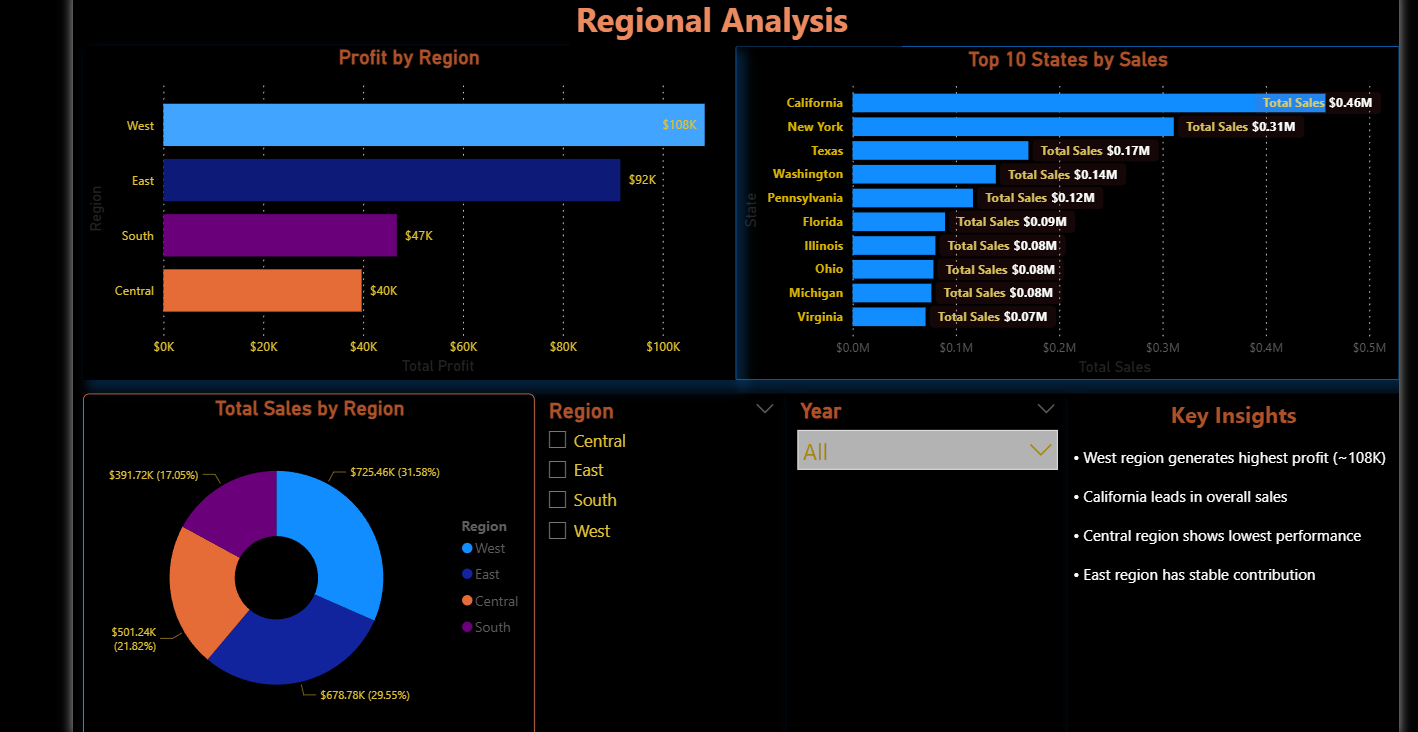

The page's visual inventory and layout, read from the dashboard file:
{"tool":"powerbi","page":{"name":"Regional Analysis","canvas":[1280,720],"ordinal":0},"visuals":[{"type":"clusteredBarChart","title":"Top 10 States by Sales","fields":{"Category":["Sample - Superstore.State"],"Y":["Sample - Superstore.Total Sales"]},"box":[639.5,53.5,640.8,322.5],"z":0},{"type":"donutChart","fields":{"Category":["Sample - Superstore.Region"],"Y":["Sample - Superstore.Total Sales"]},"box":[9.6,388.3,436.4,332.1],"z":1000},{"type":"slicer","fields":{"Values":["Sample - Superstore.Region"]},"box":[446,388.3,242.9,332.1],"z":2000},{"type":"slicer","fields":{"Values":["Sample - Superstore.Order Date.Variation.Date Hierarchy.Year"]},"box":[688.9,388.3,271.7,332.1],"z":3000},{"type":"barChart","title":" Profit by Region","fields":{"Category":["Sample - Superstore.Region"],"Y":["Sample - Superstore.Total Profit"]},"box":[9.6,53.5,629.8,322.5],"z":4000},{"type":"textbox","title":"Regional Analysis","box":[480.3,0,319.7,53.5],"z":5000},{"type":"textbox","box":[960.6,388.3,319.7,332.1],"z":6000}]}

Visuals, with their boxes on the page's 1280x720 design canvas (x1, y1, x2, y2). These are canvas units, not pixel positions in the 1418x732 screenshot, which may show the page scaled, cropped or inside an application window:
"Top 10 States by Sales" clusteredBarChart: box=[640, 54, 1280, 376]
donutChart - Sample - Superstore.Region x Sample - Superstore.Total Sales: box=[10, 388, 446, 720]
slicer - Sample - Superstore.Region: box=[446, 388, 689, 720]
slicer - Sample - Superstore.Order Date.Variation.Date Hierarchy.Year: box=[689, 388, 961, 720]
" Profit by Region" barChart: box=[10, 54, 639, 376]
"Regional Analysis" textbox: box=[480, 0, 800, 54]
textbox: box=[961, 388, 1280, 720]
